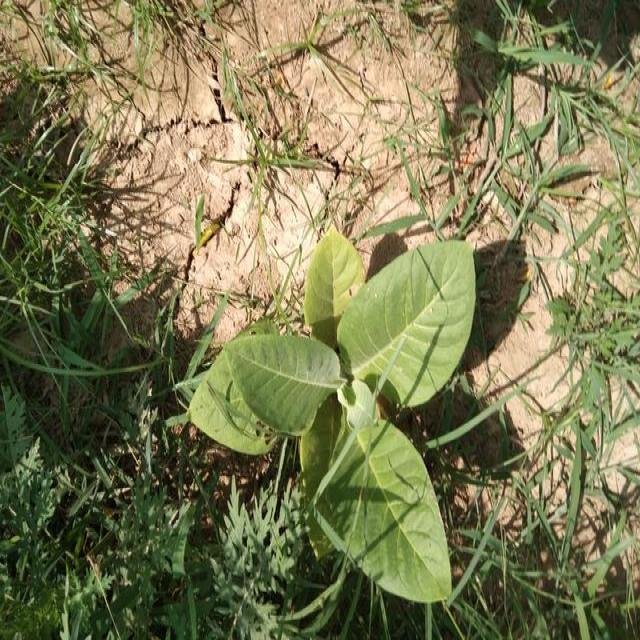crop: (204, 238, 470, 605)
